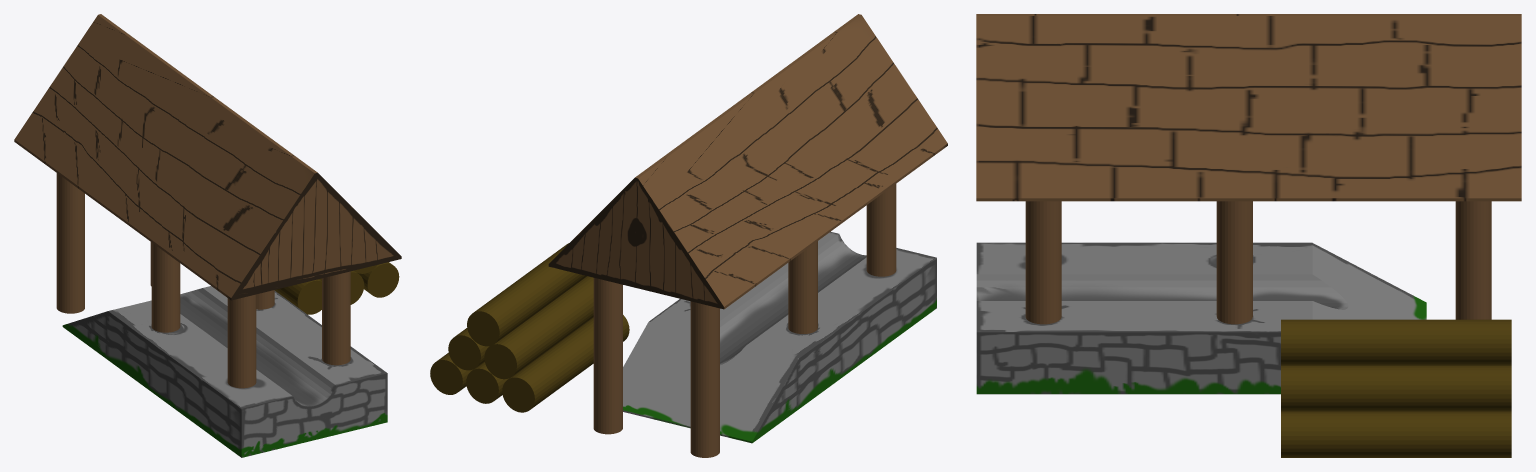
Rendered from Lumber_Mill.fbx.
The picture shows the model from 3 angles, left to right: view 1: azimuth 30°, elevation 25°; view 2: azimuth 150°, elevation 25°; view 3: azimuth 270°, elevation 25°; orthographic projection. The views are drawn at different scales.
Parts seen in each view (by area): view 1: Cube.002, Cube, Cylinder, Cylinder.004, Cylinder.002; view 2: Cube.002, Cube, Cylinder.004, Cylinder.002, Cylinder.003, Cylinder, Cylinder.001; view 3: Cube.002, Cube, Cylinder.001, Cylinder.002, Cylinder.003, Cylinder, Cylinder.004.
Boxes of the visible parts, x1=… form: Cube.002: x1=14, y1=14, x2=401, y2=300; Cube: x1=62, y1=286, x2=387, y2=457; Cylinder: x1=151, y1=242, x2=350, y2=388; Cylinder.004: x1=56, y1=173, x2=151, y2=313; Cylinder.002: x1=274, y1=262, x2=399, y2=314; Cube.002: x1=548, y1=14, x2=947, y2=309; Cube: x1=623, y1=231, x2=936, y2=443; Cylinder.004: x1=593, y1=278, x2=719, y2=457; Cylinder.002: x1=430, y1=315, x2=629, y2=412; Cylinder.003: x1=448, y1=276, x2=593, y2=379; Cylinder: x1=788, y1=184, x2=896, y2=333; Cylinder.001: x1=467, y1=243, x2=586, y2=346; Cube.002: x1=976, y1=14, x2=1521, y2=201; Cube: x1=976, y1=242, x2=1426, y2=394; Cylinder.001: x1=1281, y1=319, x2=1511, y2=365; Cylinder.002: x1=1281, y1=411, x2=1511, y2=457; Cylinder.003: x1=1281, y1=365, x2=1511, y2=411; Cylinder: x1=1025, y1=201, x2=1252, y2=324; Cylinder.004: x1=1455, y1=201, x2=1491, y2=319.
Bounding box in the file's own units: 529 × 468 × 687.
7 materials, 7 textured.
